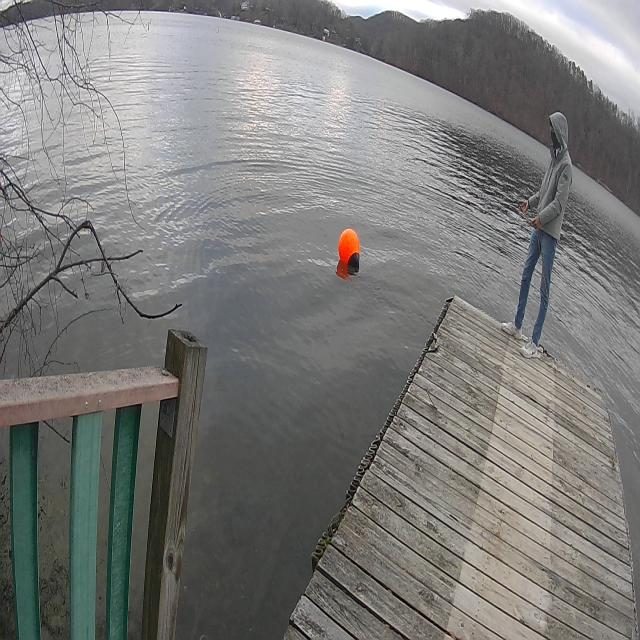Buoy: (337, 221, 361, 277)
